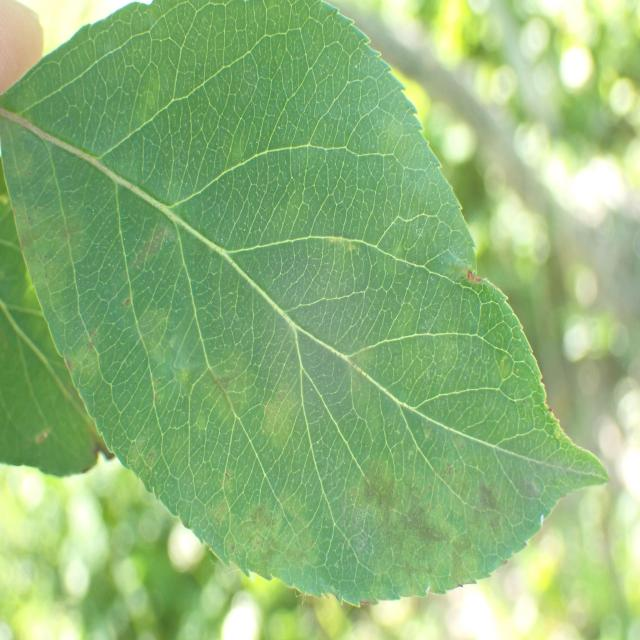scab: (8, 16, 562, 595)
